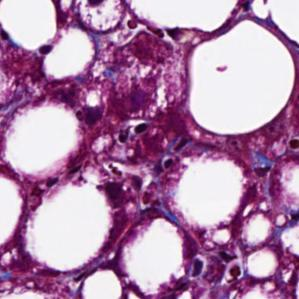inflammation: (180, 248, 247, 286), (69, 0, 128, 35), (109, 116, 159, 154)
